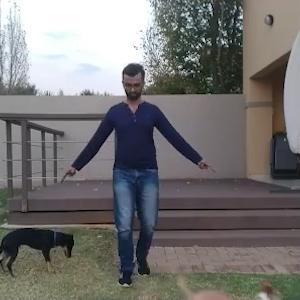land: (79, 77, 205, 277)
